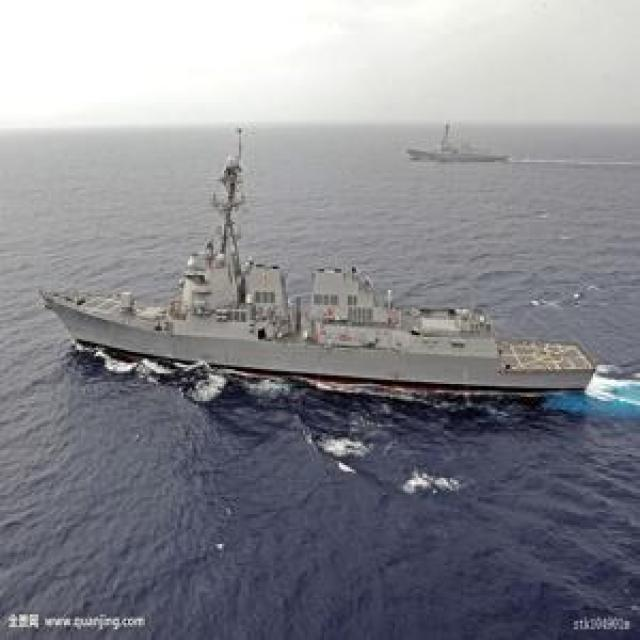navalvessels: (38, 120, 592, 404), (400, 118, 514, 162)
